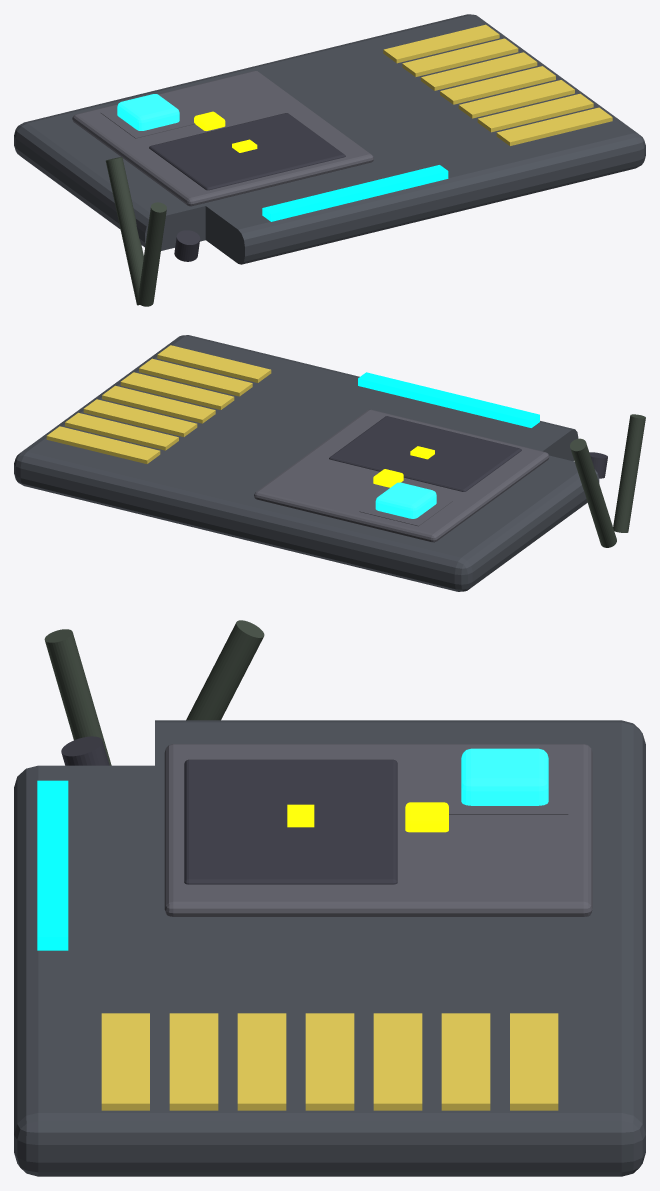
File: Chip.fbx
3 views of the same model, one above another, from view 1: azimuth 30°, elevation 25°; view 2: azimuth 150°, elevation 25°; view 3: azimuth 270°, elevation 25° (orthographic). The views are drawn at different scales.
Visible parts, largest first — view 1: DataChip_Body, LeftPanel, SubPanel, GreenBar, Cable_1, Strip_1, Strip_2, Strip_0, Strip_6, Strip_4, Strip_5, Strip_3 (+5 smaller); view 2: DataChip_Body, LeftPanel, SubPanel, GreenBar, Cable_2, Cable_1, Strip_0, Strip_2, Strip_4, Strip_1, Strip_3, Strip_6 (+4 smaller); view 3: DataChip_Body, LeftPanel, SubPanel, GreenBar, TealGem, Strip_1, Strip_2, Strip_3, Strip_4, Strip_5, Strip_0, Strip_6 (+5 smaller).
Boxes of the visible parts, left/top/right/bottom form: DataChip_Body: left=14, top=14, right=645, bottom=264; LeftPanel: left=72, top=70, right=373, bottom=206; SubPanel: left=149, top=113, right=345, bottom=190; GreenBar: left=262, top=165, right=448, bottom=221; Cable_1: left=105, top=157, right=143, bottom=305; Strip_1: left=477, top=93, right=593, bottom=132; Strip_2: left=458, top=80, right=574, bottom=118; Strip_0: left=496, top=107, right=612, bottom=145; Strip_6: left=383, top=24, right=499, bottom=63; Strip_4: left=421, top=52, right=537, bottom=90; Strip_5: left=402, top=38, right=518, bottom=76; Strip_3: left=440, top=66, right=555, bottom=104; DataChip_Body: left=14, top=335, right=599, bottom=591; LeftPanel: left=254, top=409, right=549, bottom=542; SubPanel: left=329, top=416, right=521, bottom=491; GreenBar: left=358, top=372, right=539, bottom=427; Cable_2: left=613, top=414, right=645, bottom=532; Cable_1: left=570, top=438, right=616, bottom=547; Strip_0: left=157, top=345, right=271, bottom=382; Strip_2: left=120, top=372, right=234, bottom=409; Strip_4: left=83, top=399, right=197, bottom=436; Strip_1: left=139, top=358, right=252, bottom=396; Strip_3: left=102, top=385, right=215, bottom=423; Strip_6: left=46, top=426, right=160, bottom=463; DataChip_Body: left=14, top=720, right=645, bottom=1176; LeftPanel: left=164, top=744, right=592, bottom=916; SubPanel: left=184, top=759, right=397, bottom=884; GreenBar: left=37, top=780, right=68, bottom=950; TealGem: left=461, top=748, right=548, bottom=805; Strip_1: left=169, top=1013, right=218, bottom=1110; Strip_2: left=237, top=1013, right=286, bottom=1110; Strip_3: left=305, top=1013, right=354, bottom=1110; Strip_4: left=373, top=1013, right=422, bottom=1110; Strip_5: left=441, top=1013, right=490, bottom=1110; Strip_0: left=101, top=1013, right=149, bottom=1110; Strip_6: left=510, top=1013, right=558, bottom=1110.
Bounding box in the file's own units: 208 × 52.55 × 130.
